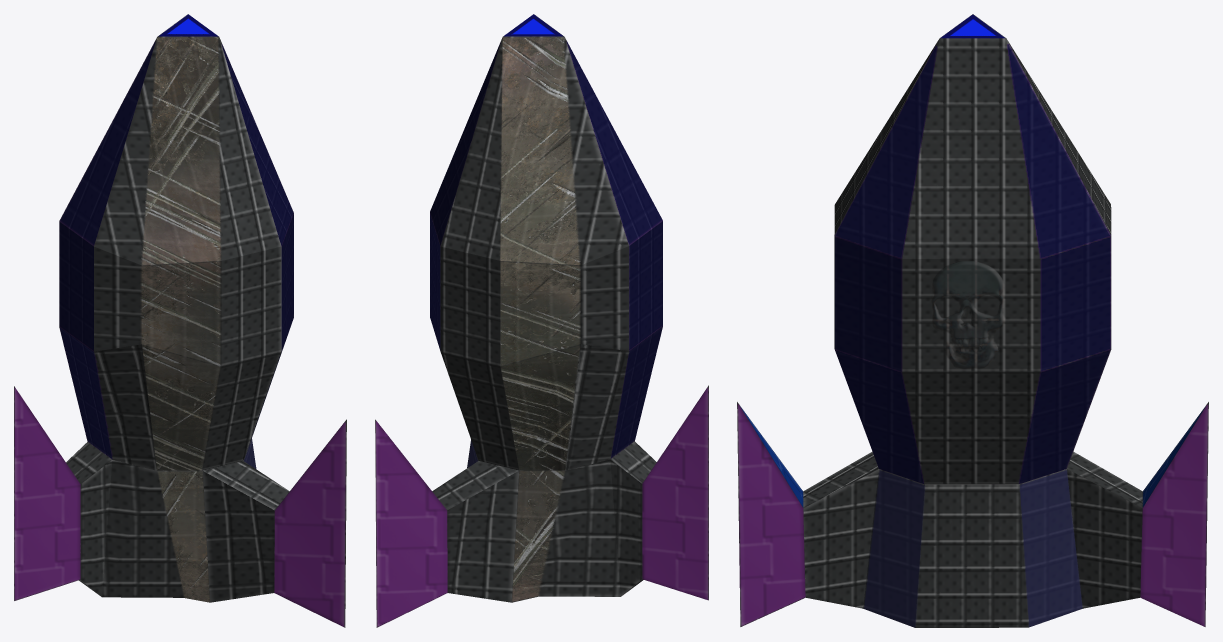
Rendered from drone.fbx.
3 renders of one model, left to right at view 1: azimuth 30°, elevation 25°; view 2: azimuth 150°, elevation 25°; view 3: azimuth 270°, elevation 25°, orthographic. The views are drawn at different scales.
Visible parts, largest first — view 1: Cylinder; view 2: Cylinder; view 3: Cylinder.
Part boxes in pixels (box(x1,y1,x2,y2)): Cylinder: box(14, 14, 346, 627); Cylinder: box(375, 14, 708, 627); Cylinder: box(737, 14, 1208, 627).
Bounding box in the file's own units: 127 × 262 × 196.
